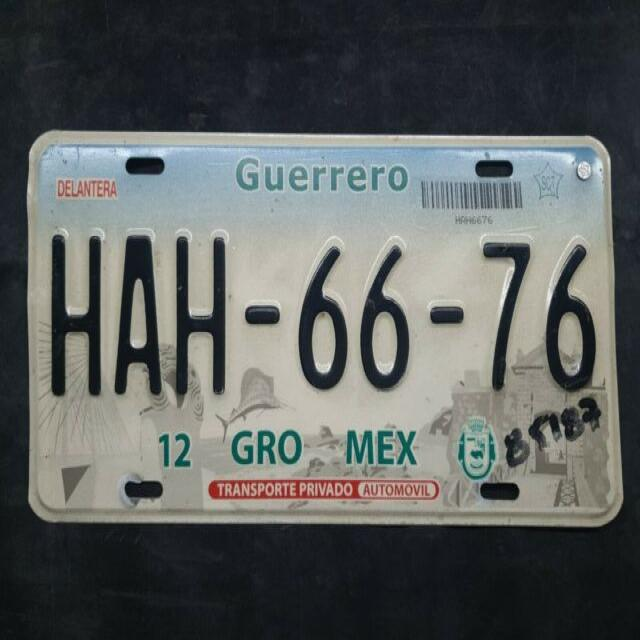placa: (31, 212, 609, 418)
